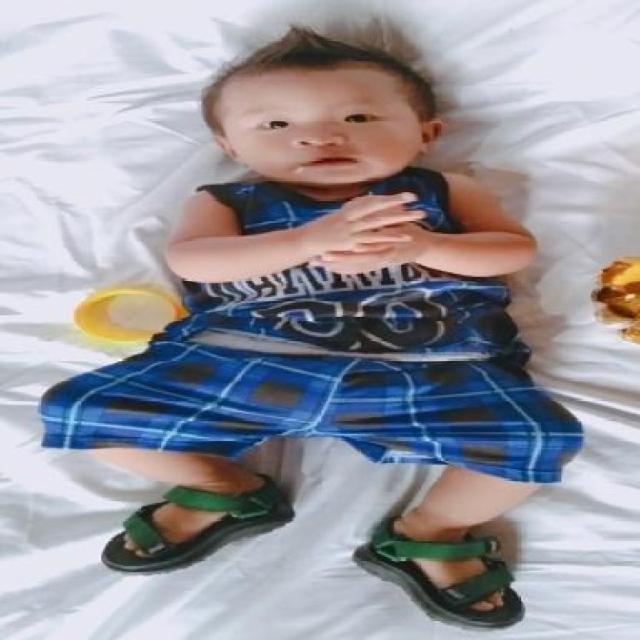baby: (34, 23, 582, 631)
